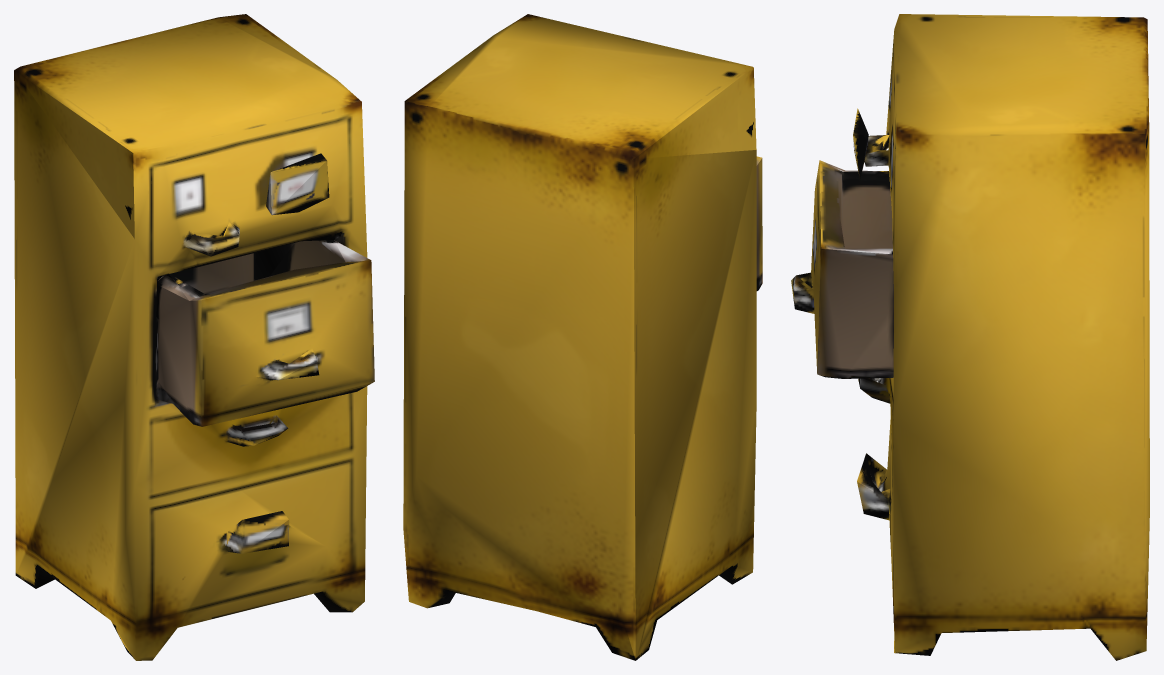
The model's file is filing-cabinet.glb.
3 renders of one model, left to right at view 1: azimuth 30°, elevation 25°; view 2: azimuth 150°, elevation 25°; view 3: azimuth 270°, elevation 25°, orthographic. The views are drawn at different scales.
Parts seen in each view (by area): view 1: geometry_0.001; view 2: geometry_0.001; view 3: geometry_0.001.
Part boxes in pixels (x1,y1,x2,y2): geometry_0.001: (14, 14, 374, 660); geometry_0.001: (403, 14, 762, 660); geometry_0.001: (791, 14, 1149, 660).
Size of the model in its own units: 0.4766 by 0.9978 by 0.6107.
Materials: 1 (1 with a texture image).
